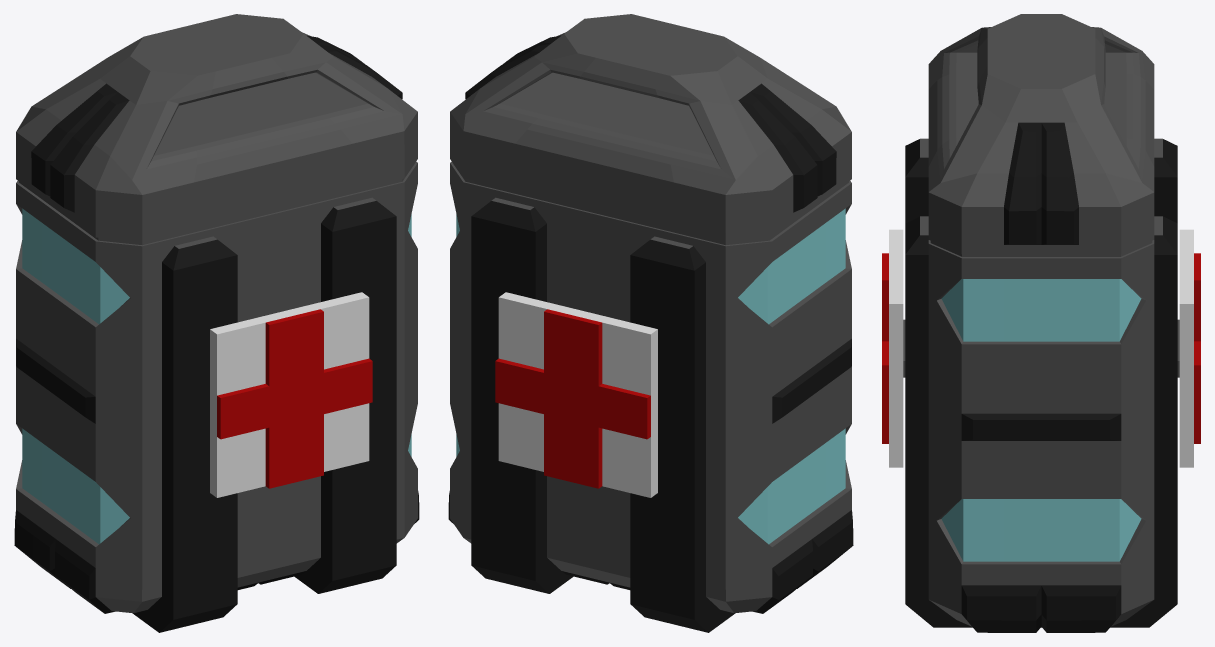
The model's file is Medkit1.fbx.
3 views of the same model, side by side, from view 1: azimuth 30°, elevation 25°; view 2: azimuth 150°, elevation 25°; view 3: azimuth 270°, elevation 25° (orthographic).
Parts seen in each view (by area): view 1: Medkit.001; view 2: Medkit.001; view 3: Medkit.001.
Boxes of the visible parts, x1,y1,x2,y2 form: Medkit.001: (14, 14, 419, 632); Medkit.001: (448, 14, 853, 632); Medkit.001: (882, 14, 1200, 632).
Bounding box in the file's own units: 154 × 227 × 126.
